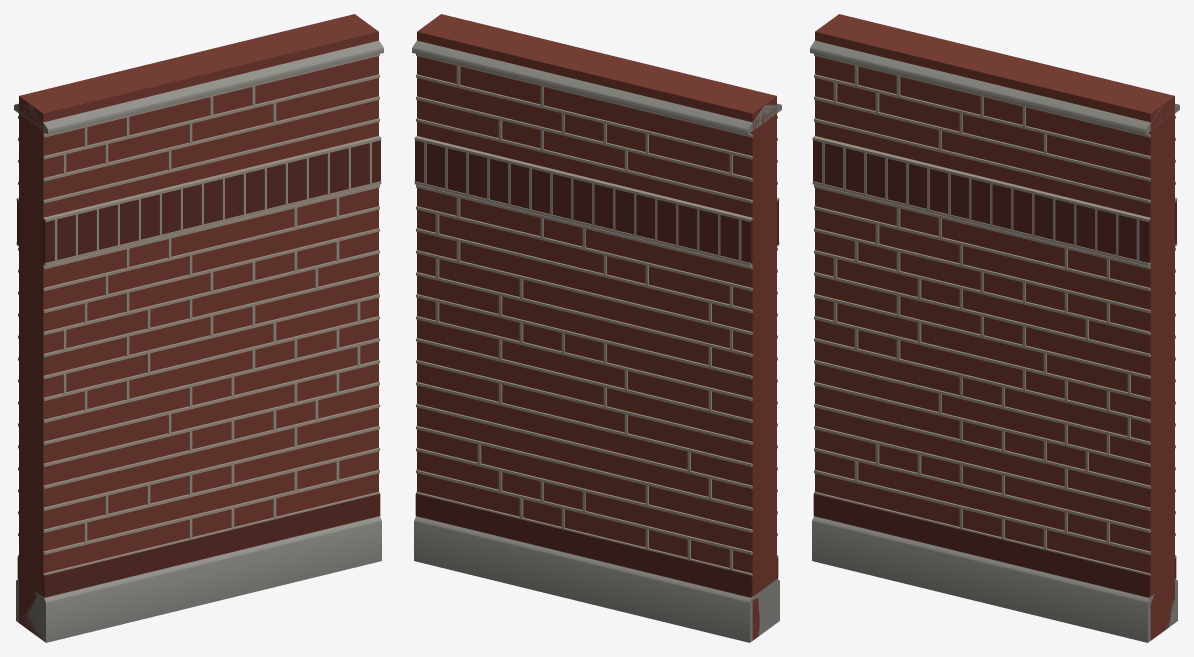
The model's file is Shop_BrickWall.fbx.
3 views of the same model, side by side, from view 1: azimuth 30°, elevation 25°; view 2: azimuth 150°, elevation 25°; view 3: azimuth 330°, elevation 25° (orthographic).
Visible parts, largest first — view 1: Brick, Mortar, Concrete, BrickBand; view 2: Brick, Mortar, Concrete, BrickBand; view 3: Brick, Mortar, Concrete, BrickBand.
Boxes of the visible parts, x1,y1,x2,y2 form: Brick: (19,14,378,639); Mortar: (16,54,381,598); Concrete: (14,40,383,642); BrickBand: (17,140,380,597); Brick: (417,14,776,640); Mortar: (414,54,779,598); Concrete: (412,40,781,642); BrickBand: (415,140,778,597); Brick: (815,14,1174,640); Mortar: (812,54,1177,598); Concrete: (810,40,1179,642); BrickBand: (813,140,1176,597).
Size of the model in its own units: 800 by 1200 by 140.
